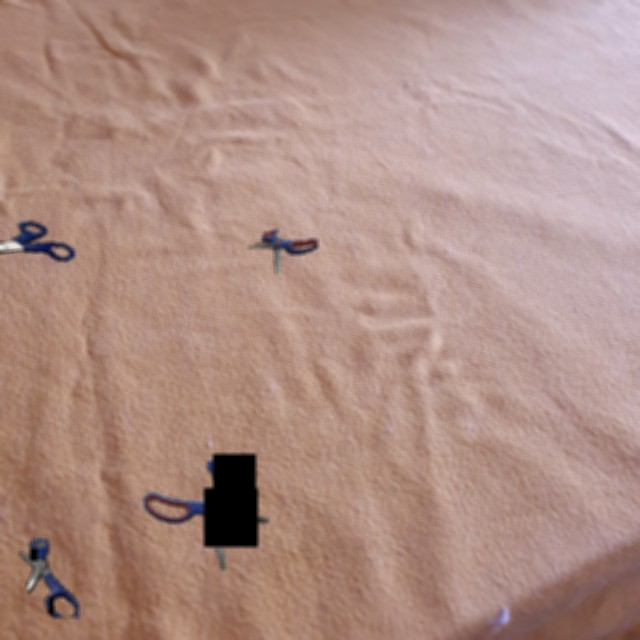scissors: (142, 454, 269, 570), (19, 537, 79, 618), (248, 229, 318, 274), (0, 221, 75, 262)
